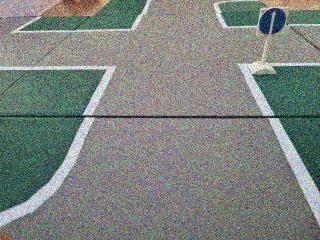straight: (258, 5, 290, 37)
